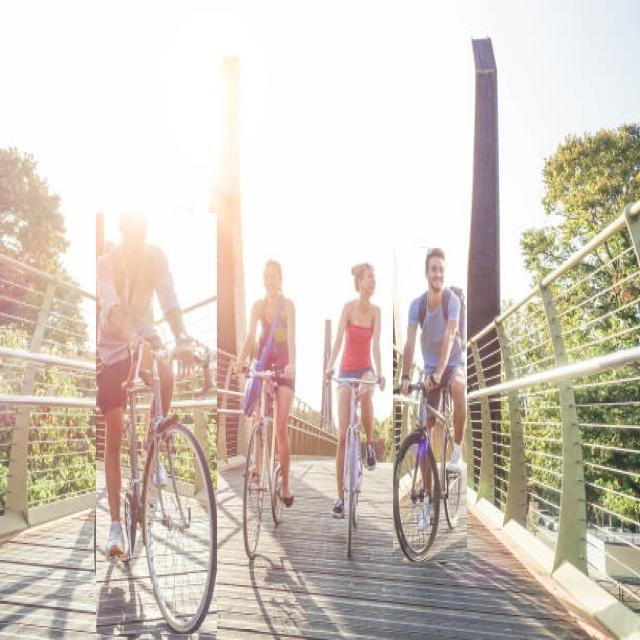bicycle: (96, 213, 216, 634), (393, 248, 466, 562), (236, 261, 295, 558), (325, 262, 385, 554)
